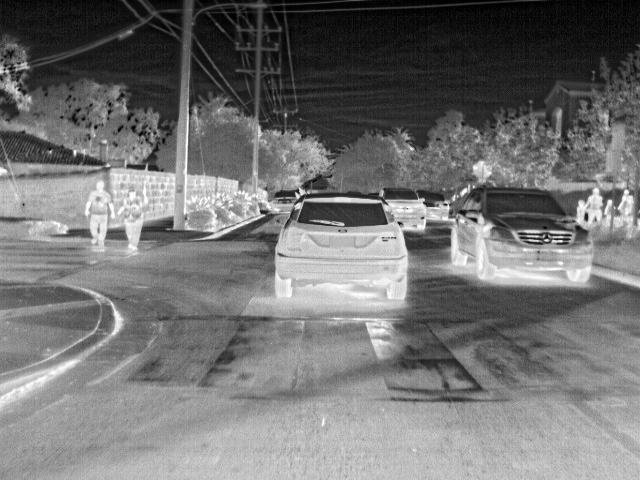car: (274, 192, 412, 300), (450, 188, 596, 284), (381, 188, 426, 228), (418, 190, 450, 220), (274, 189, 300, 208)
person: (89, 178, 112, 245), (123, 188, 145, 252), (589, 186, 603, 221), (621, 188, 634, 216), (576, 199, 588, 223), (604, 198, 616, 218)
